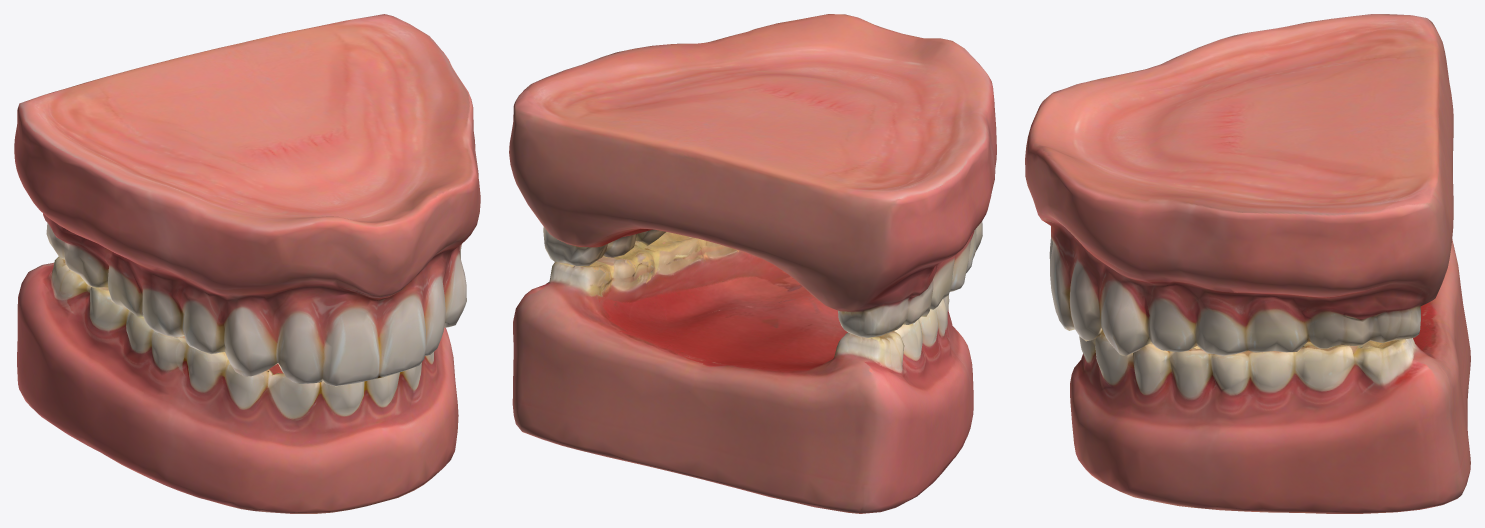
Rendered from Meshy_AI_Generate_a_3D_model_o_0412160549_texture.glb.
3 views of the same model, side by side, from view 1: azimuth 30°, elevation 25°; view 2: azimuth 150°, elevation 25°; view 3: azimuth 270°, elevation 25° (orthographic). The views are drawn at different scales.
Size of the model in its own units: 1.99 by 1.53 by 1.81.
Materials: 1 (1 with a texture image).
